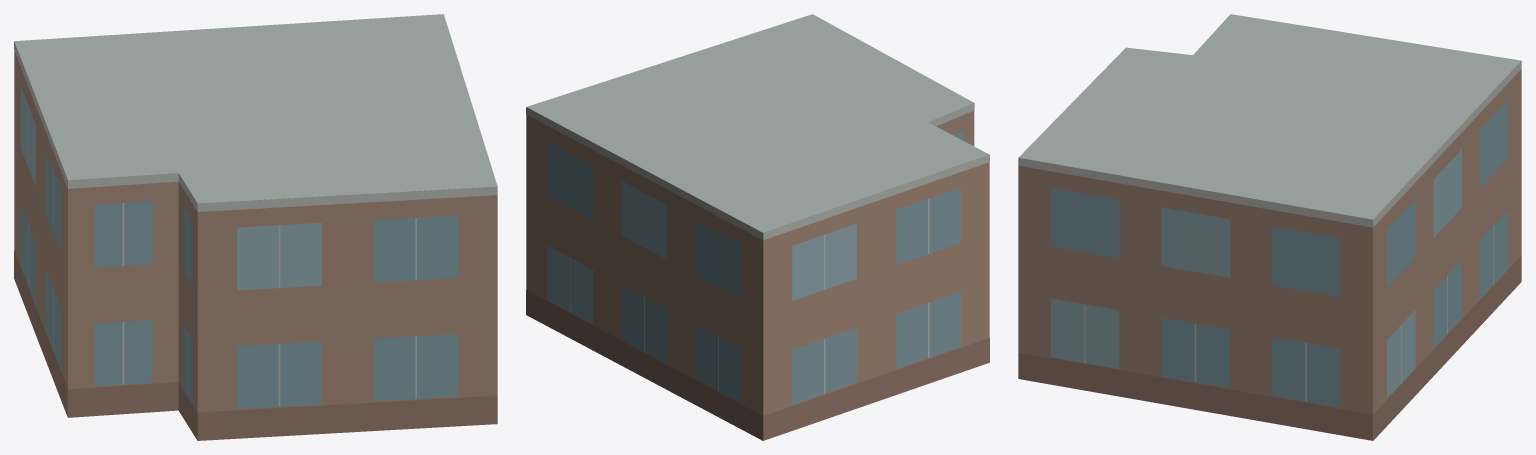
Rendered from survey-upis-32750379.glb.
3 renders of one model, left to right at view 1: azimuth 30°, elevation 25°; view 2: azimuth 150°, elevation 25°; view 3: azimuth 270°, elevation 25°, orthographic. The views are drawn at different scales.
Visible parts, largest first — view 1: survey-upis-32750379.tmp; view 2: survey-upis-32750379.tmp; view 3: survey-upis-32750379.tmp.
Boxes of the visible parts, <box> form: survey-upis-32750379.tmp: <box>14,14,497,440</box>; survey-upis-32750379.tmp: <box>526,14,989,440</box>; survey-upis-32750379.tmp: <box>1018,14,1521,440</box>.
Bounding box in the file's own units: 13.57 × 6.8 × 14.03.
